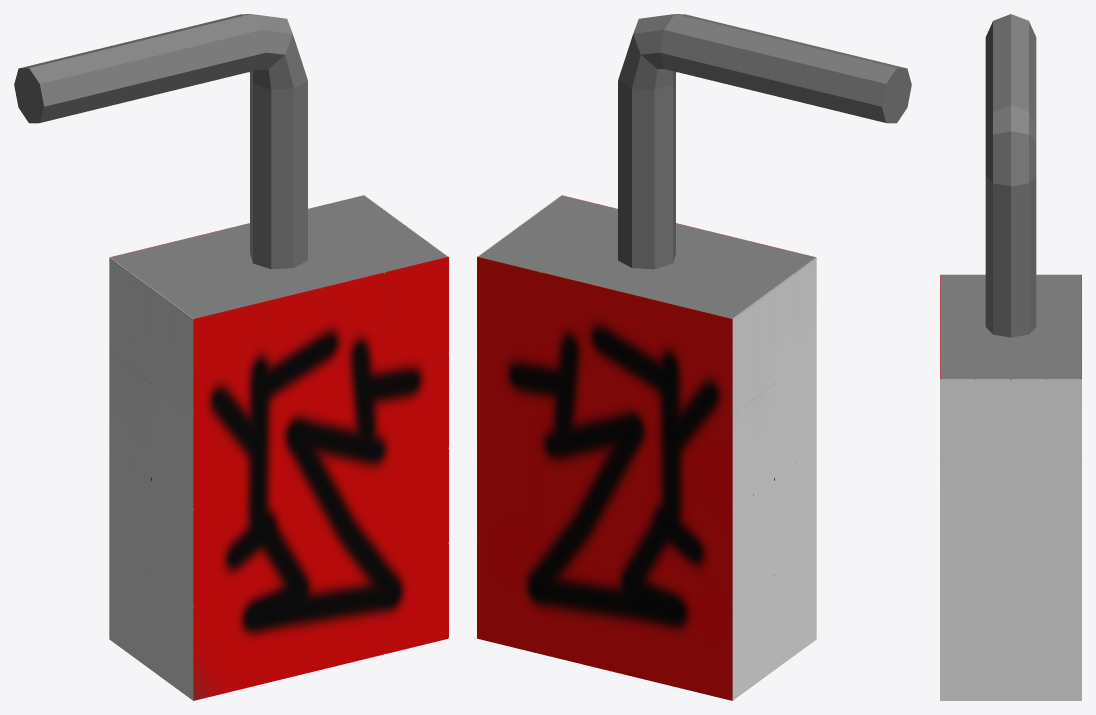
Rendered from vertical sign.obj.
3 views of the same model, side by side, from view 1: azimuth 30°, elevation 25°; view 2: azimuth 150°, elevation 25°; view 3: azimuth 270°, elevation 25° (orthographic). The views are drawn at different scales.
Visible parts, largest first — view 1: vertical_sign_Cube.003; view 2: vertical_sign_Cube.003; view 3: vertical_sign_Cube.003.
Part boxes in pixels (x1,y1,x2,y2): vertical_sign_Cube.003: (14, 14, 448, 700); vertical_sign_Cube.003: (477, 14, 911, 700); vertical_sign_Cube.003: (940, 14, 1081, 700).
Size of the model in its own units: 1.03 by 1.65 by 0.4.
